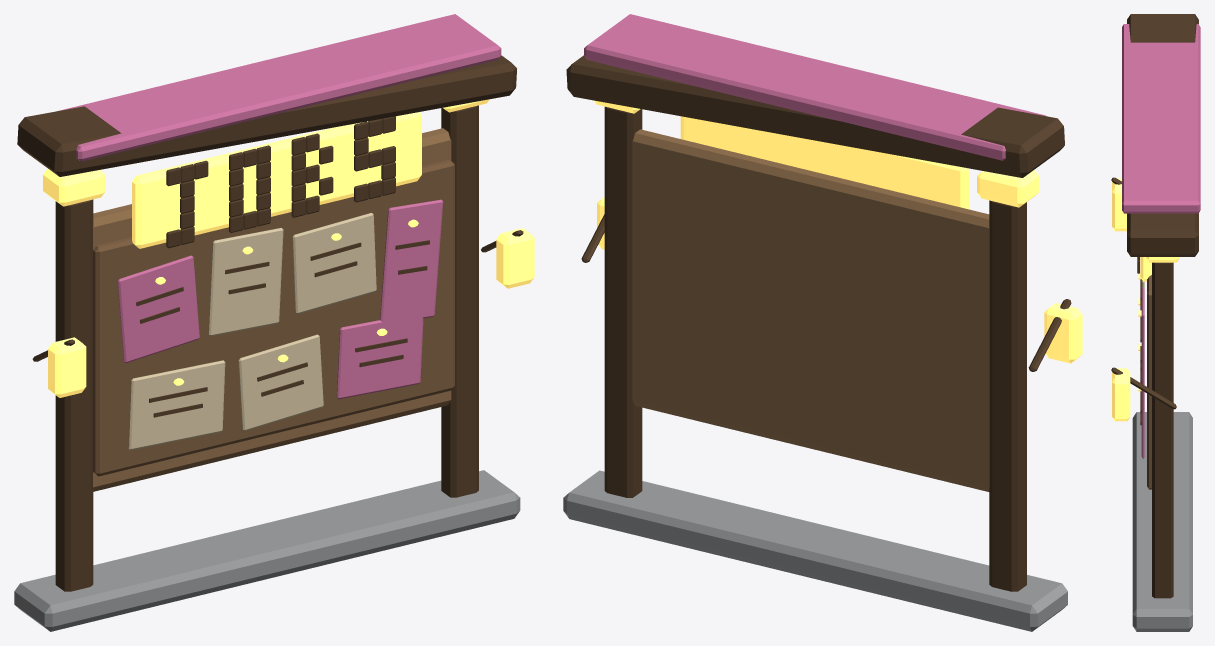
The model's file is jobs_board_rose.glb.
3 views of the same model, side by side, from view 1: azimuth 30°, elevation 25°; view 2: azimuth 150°, elevation 25°; view 3: azimuth 270°, elevation 25° (orthographic). The views are drawn at different scales.
Bounding box in the file's own units: 6.62 × 6.45 × 1.23.
